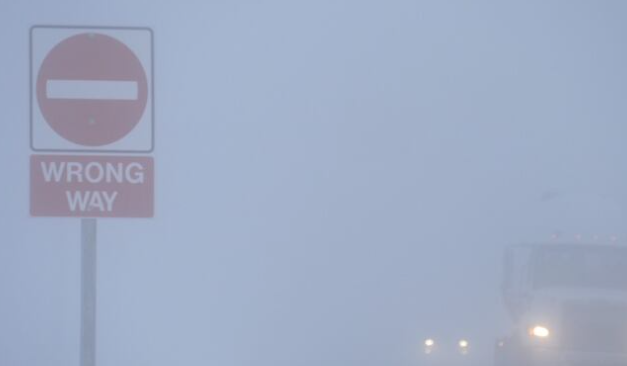No entry: (27, 27, 150, 153)
